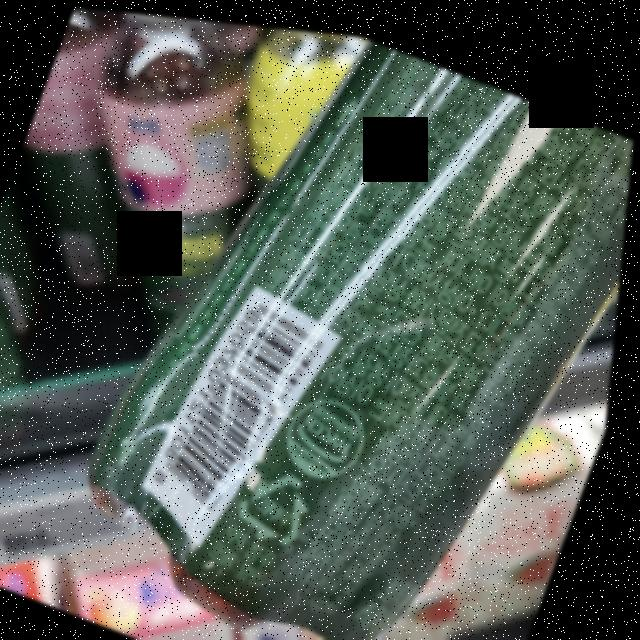ColorlessPET: (237, 450, 333, 548)
